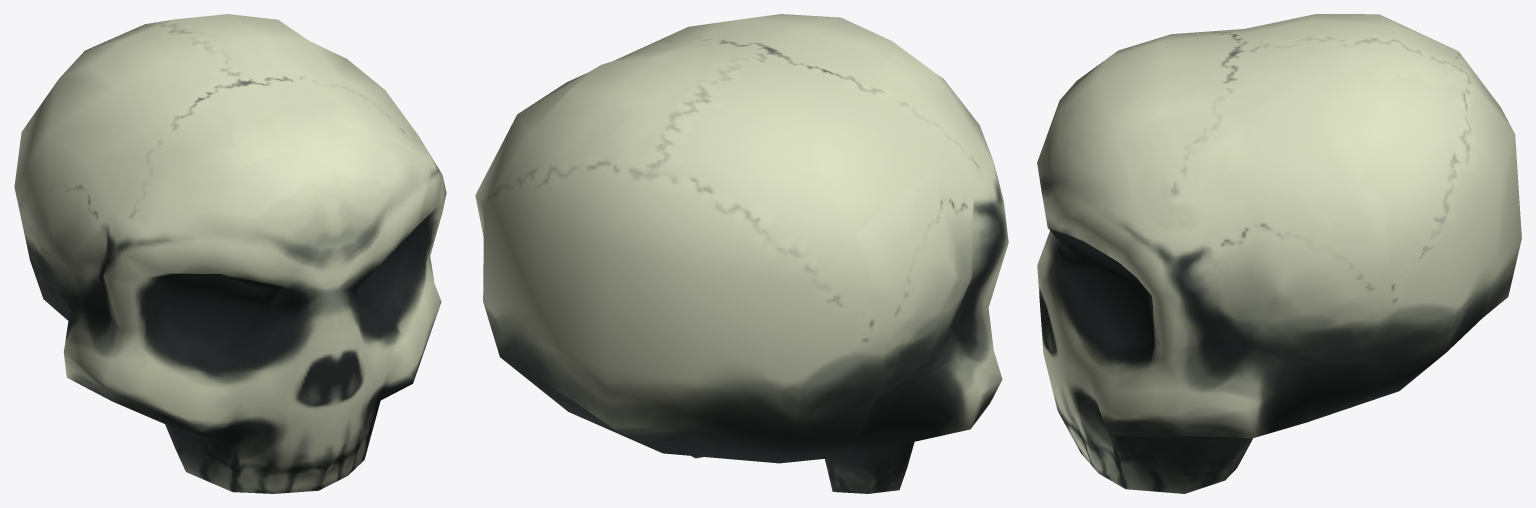
Rendered from Skull.obj.
3 views of the same model, side by side, from view 1: azimuth 30°, elevation 25°; view 2: azimuth 150°, elevation 25°; view 3: azimuth 270°, elevation 25° (orthographic). The views are drawn at different scales.
Visible parts, largest first — view 1: Skull; view 2: Skull; view 3: Skull.
Part boxes in pixels (x1=…): Skull: x1=14, y1=14, x2=446, y2=493; Skull: x1=475, y1=14, x2=1008, y2=493; Skull: x1=1037, y1=14, x2=1521, y2=493.
Bounding box in the file's own units: 0.7738 × 0.7594 × 0.8111.
Materials: 1 (1 with a texture image).
